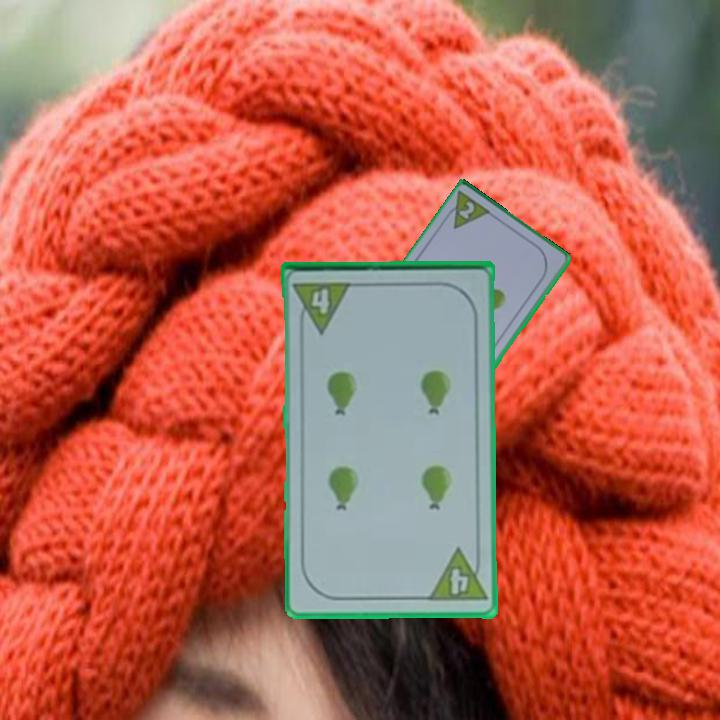2p: (439, 188, 495, 233)
4p: (424, 545, 490, 604), (290, 278, 355, 336)
